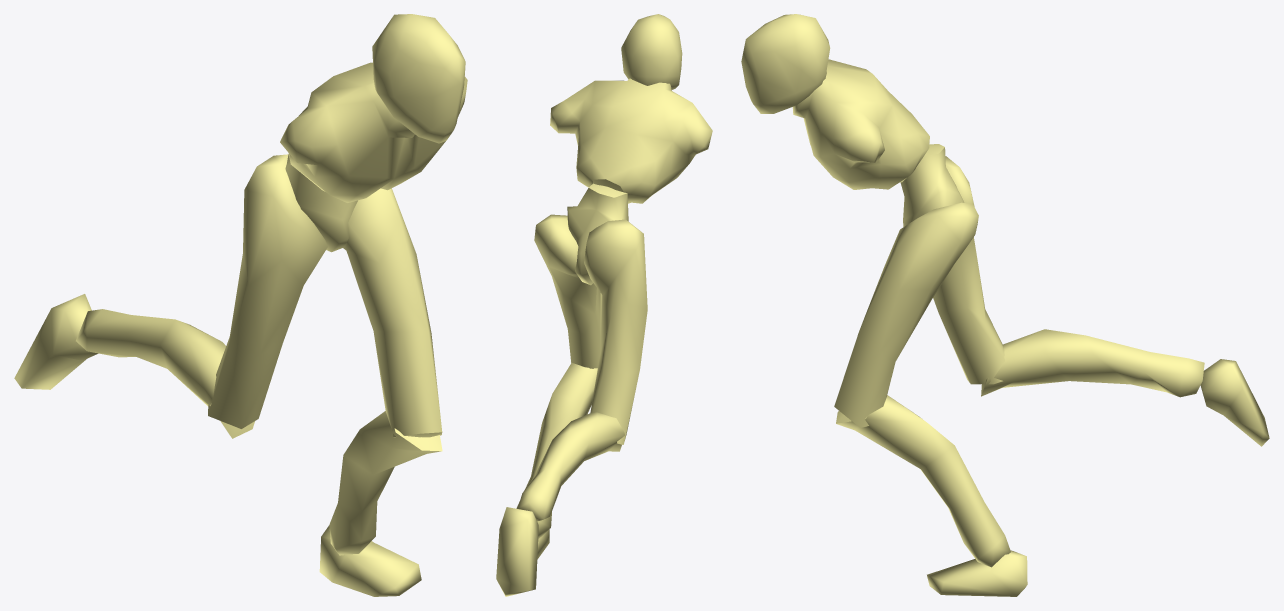
The model's file is filth24.obj.
3 views of the same model, side by side, from view 1: azimuth 30°, elevation 25°; view 2: azimuth 150°, elevation 25°; view 3: azimuth 270°, elevation 25° (orthographic). The views are drawn at different scales.
Visible parts, largest first — view 1: Melee_Husk; view 2: Melee_Husk; view 3: Melee_Husk.
Part boxes in pixels (x1,y1,x2,y2): Melee_Husk: (14,14,467,596); Melee_Husk: (496,14,712,596); Melee_Husk: (741,14,1269,596).
Size of the model in its own units: 22.19 by 66.83 by 57.59.
